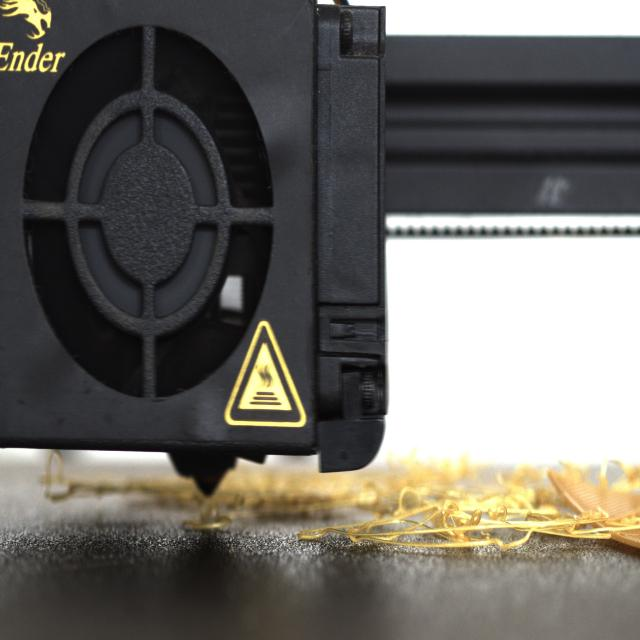Without deffect: (14, 17, 294, 414)
